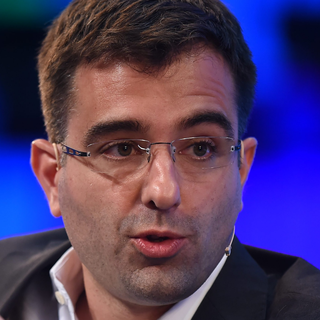eye: (177, 138, 224, 162), (99, 138, 148, 161)
